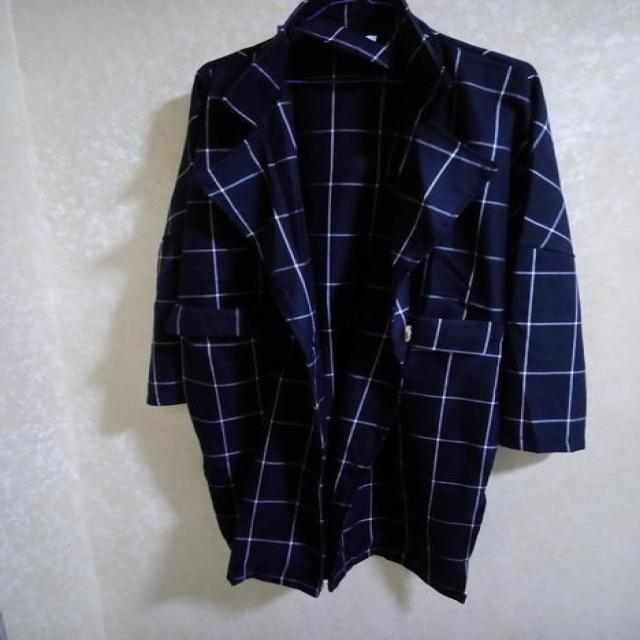long sleeve outwear: (148, 3, 332, 596)
